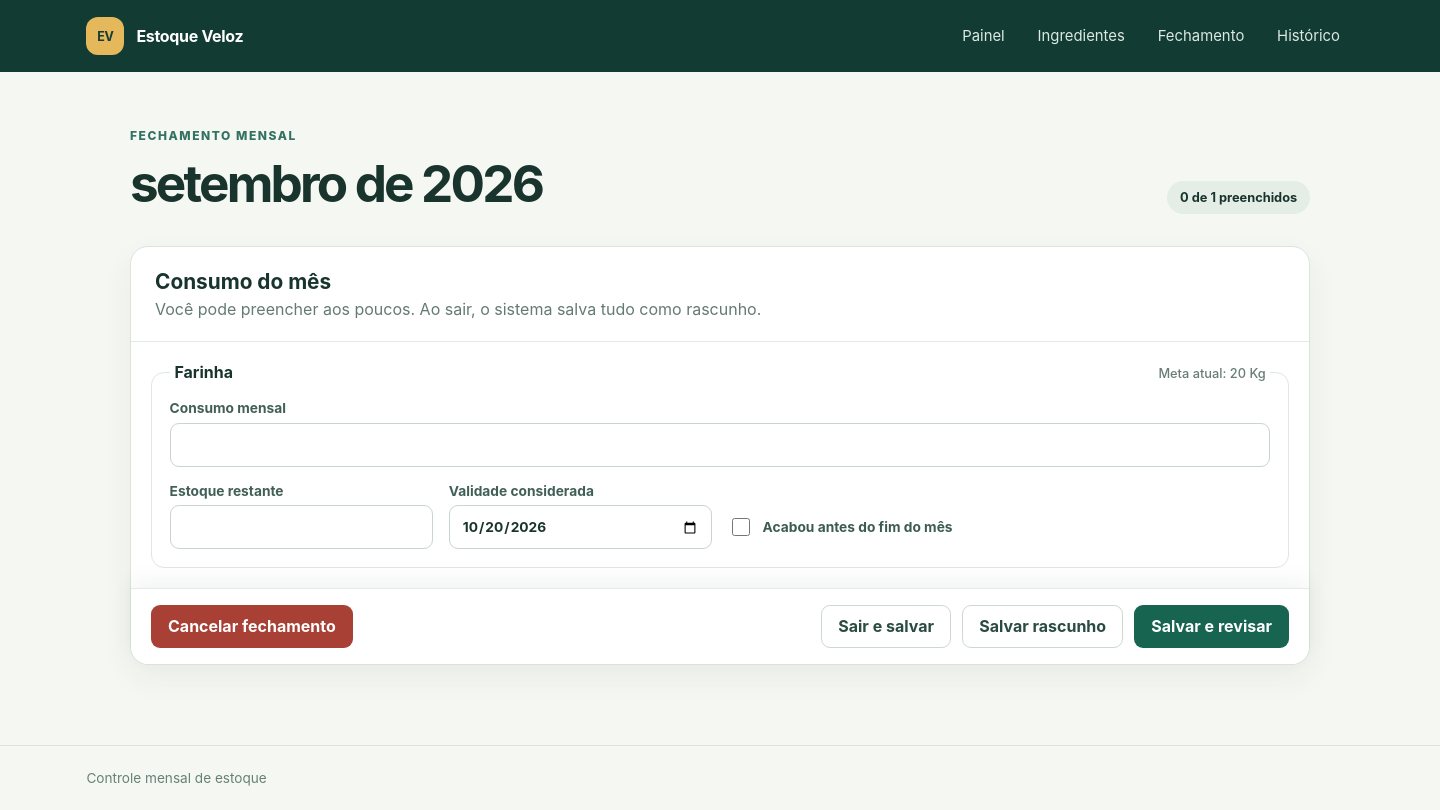
Scenario: Fechamento mensal › zera o estoque quando falta antecipada é marcada
Type "5" into the number field named "Estoque restante de Farinha". click: (301, 527)
box: [170, 505, 433, 549]
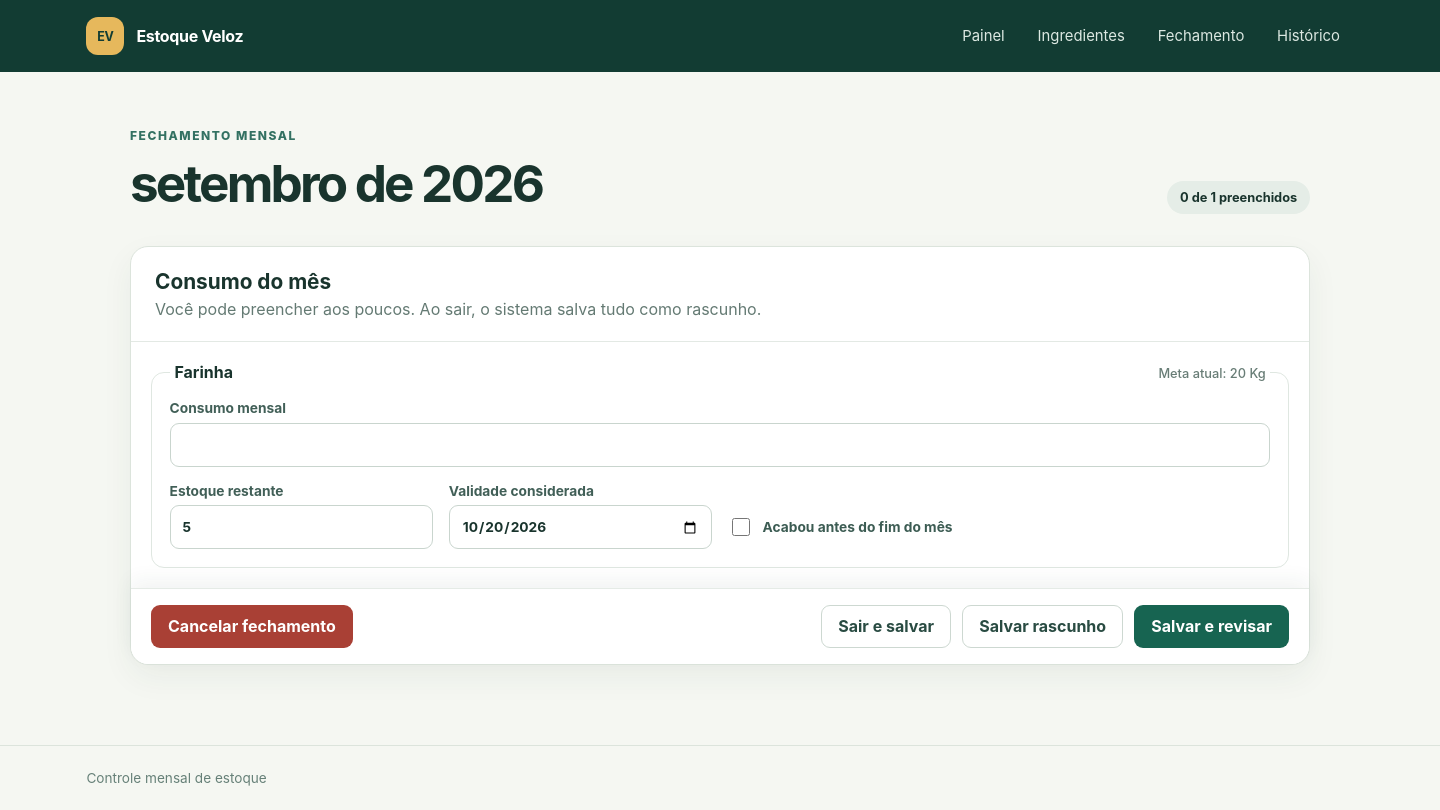
Click the checkbox named "Houve falta de Farinha". click: (741, 527)
box: [732, 518, 750, 536]
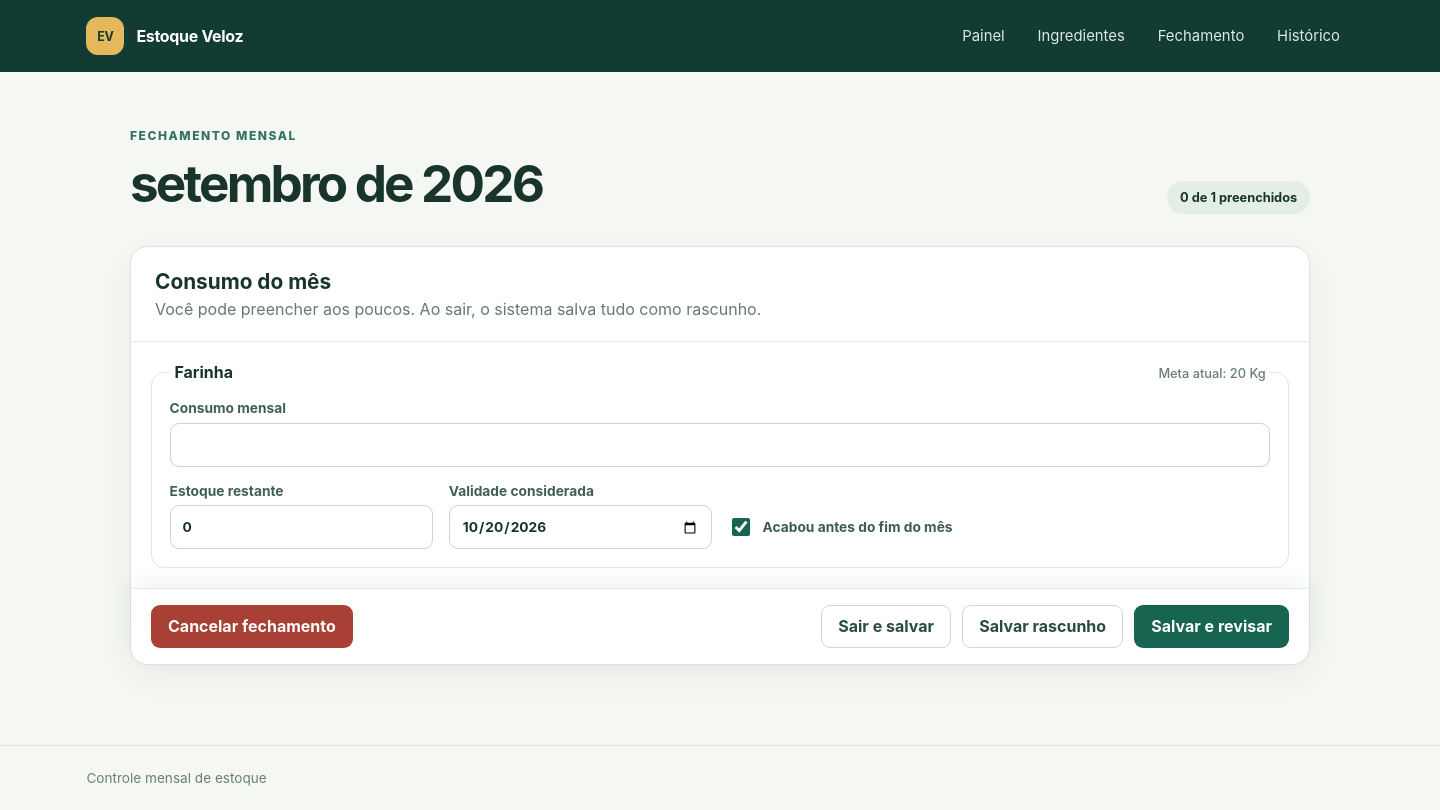
Expected: the checkbox named "Houve falta de Farinha" is checked, [732, 518, 750, 536]
Expected: the number field named "Estoque restante de Farinha" holds "0", [170, 505, 433, 549]
